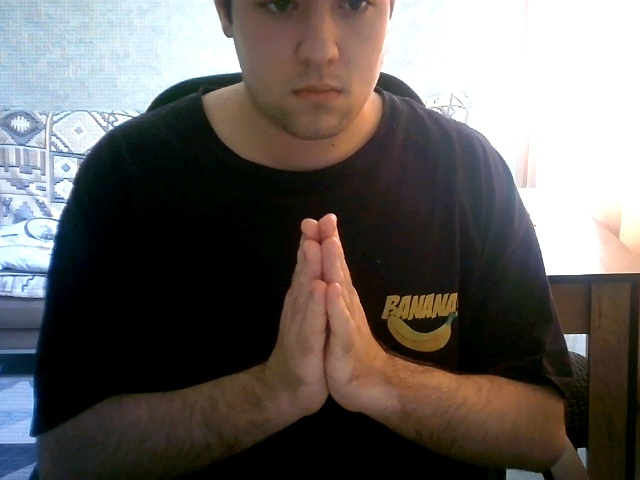please: (252, 197, 409, 434)
